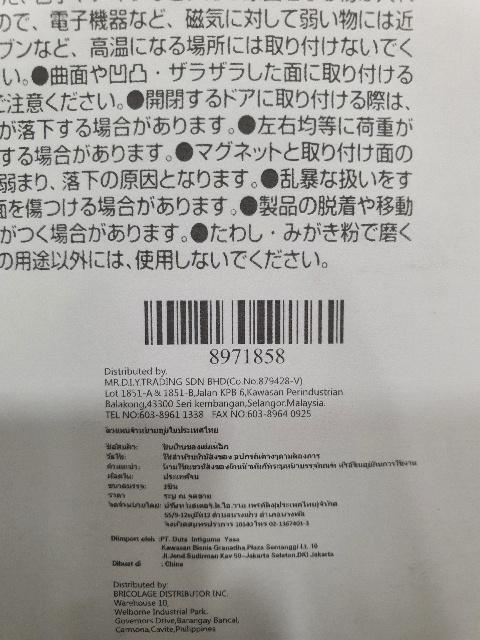Barcode: (136, 296, 356, 370)
